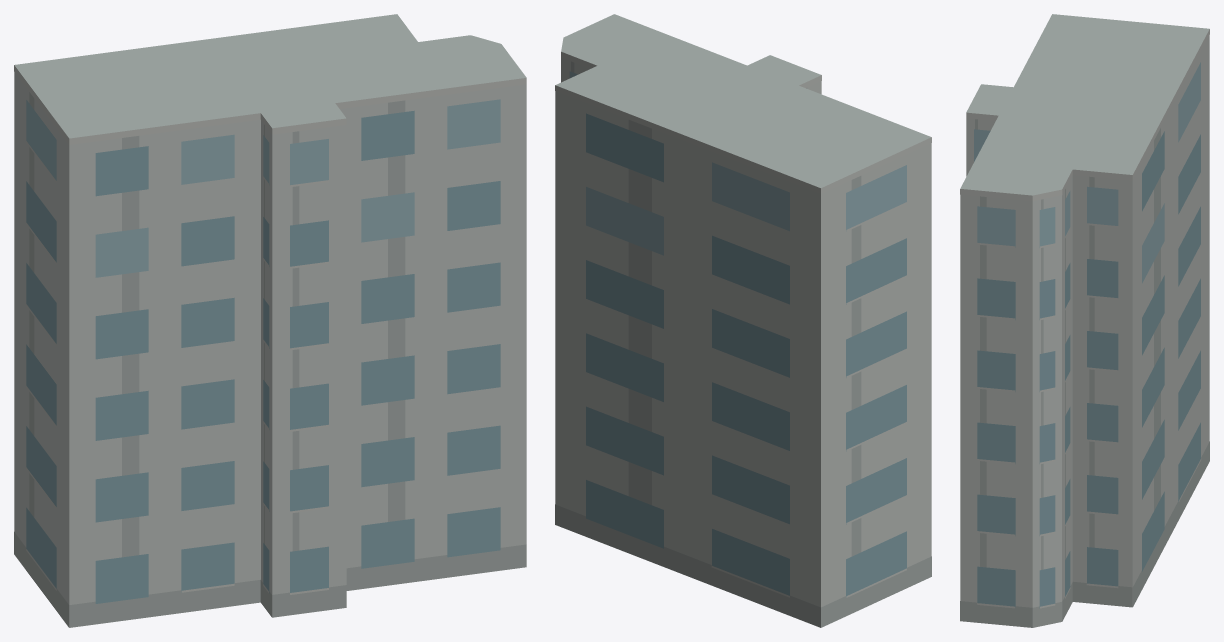
Rendered from survey-upis-32553946.glb.
3 views of the same model, side by side, from view 1: azimuth 30°, elevation 25°; view 2: azimuth 150°, elevation 25°; view 3: azimuth 270°, elevation 25° (orthographic). The views are drawn at different scales.
Visible parts, largest first — view 1: survey-upis-32553946.tmp; view 2: survey-upis-32553946.tmp; view 3: survey-upis-32553946.tmp.
Boxes of the visible parts, x1=… form: survey-upis-32553946.tmp: x1=14, y1=14, x2=526, y2=627; survey-upis-32553946.tmp: x1=555, y1=14, x2=931, y2=627; survey-upis-32553946.tmp: x1=960, y1=14, x2=1209, y2=627.
Size of the model in its own units: 16.49 by 18.3 by 9.59.
